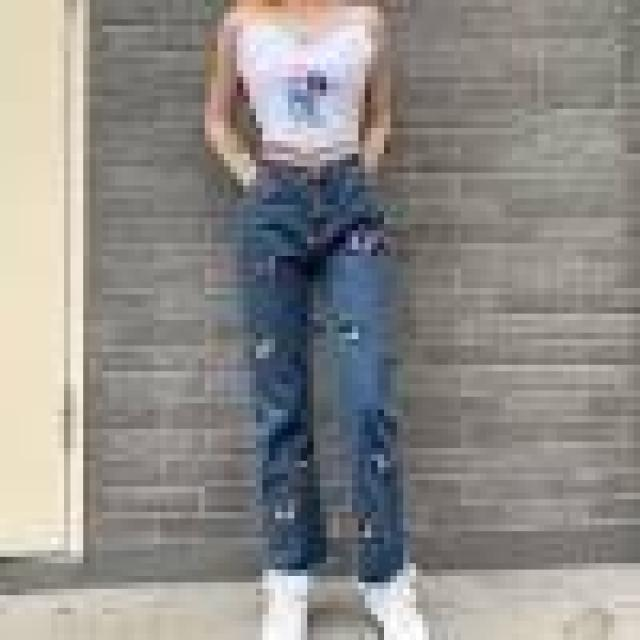pants: (221, 154, 432, 576)
